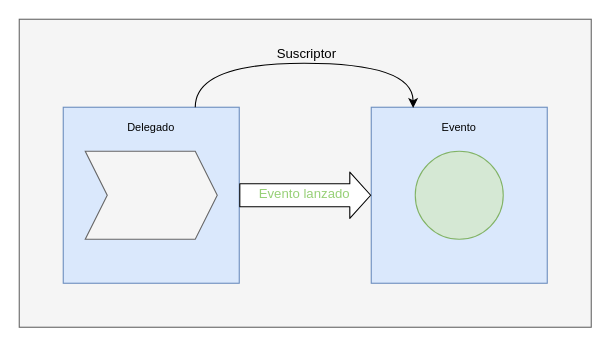
The diagram is 611 pixels wide and 347 high, and some of its shapes have lost their labels. Each missing label, with the centre of its shape:
Bombilla (encendida): pixel 458 194
Interruptor: pixel 150 194
